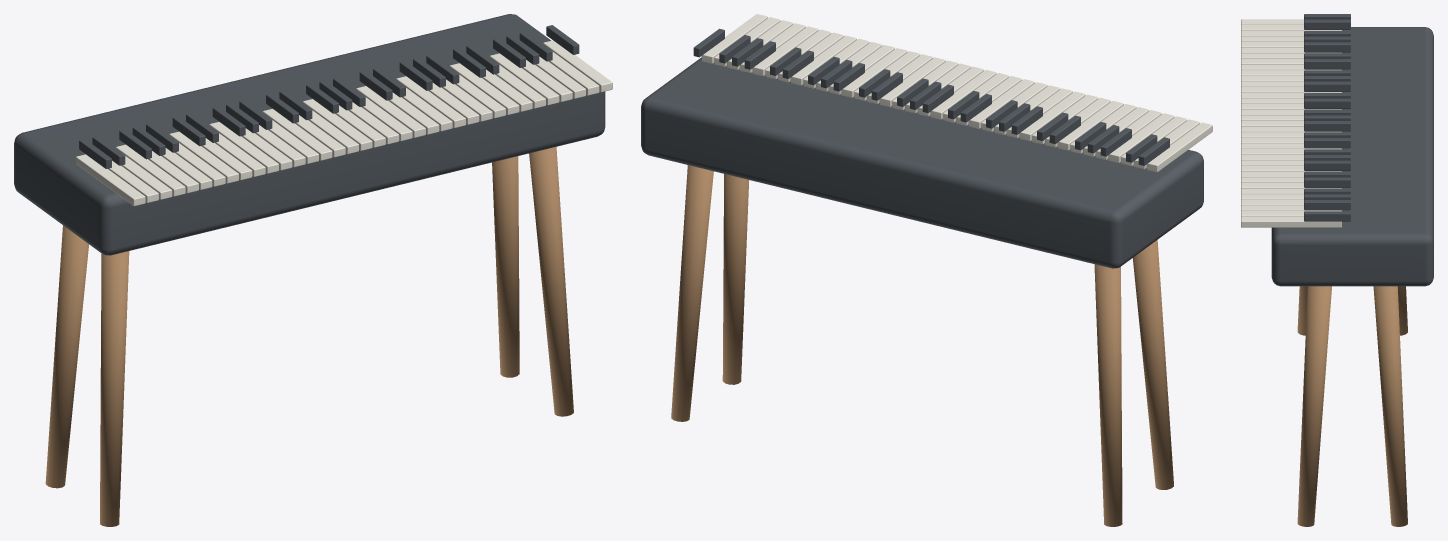
Rendered from atelier-keyboard-instrument.glb.
3 renders of one model, left to right at view 1: azimuth 30°, elevation 25°; view 2: azimuth 150°, elevation 25°; view 3: azimuth 270°, elevation 25°, orthographic. The views are drawn at different scales.
Parts seen in each view (by area): view 1: metal.192, ceramic.149, legs.225; view 2: metal.192, legs.225, ceramic.149; view 3: metal.192, ceramic.149, legs.225.
Part boxes in pixels (x1,y1,x2,y2): metal.192: [14, 14, 605, 255]; ceramic.149: [76, 40, 612, 206]; legs.225: [45, 146, 573, 526]; metal.192: [641, 28, 1203, 268]; legs.225: [671, 165, 1173, 526]; ceramic.149: [701, 14, 1212, 172]; metal.192: [1271, 14, 1433, 286]; ceramic.149: [1241, 19, 1341, 227]; legs.225: [1297, 286, 1407, 526].
Bounding box in the file's own units: 1.4 × 0.9693 × 0.535.
